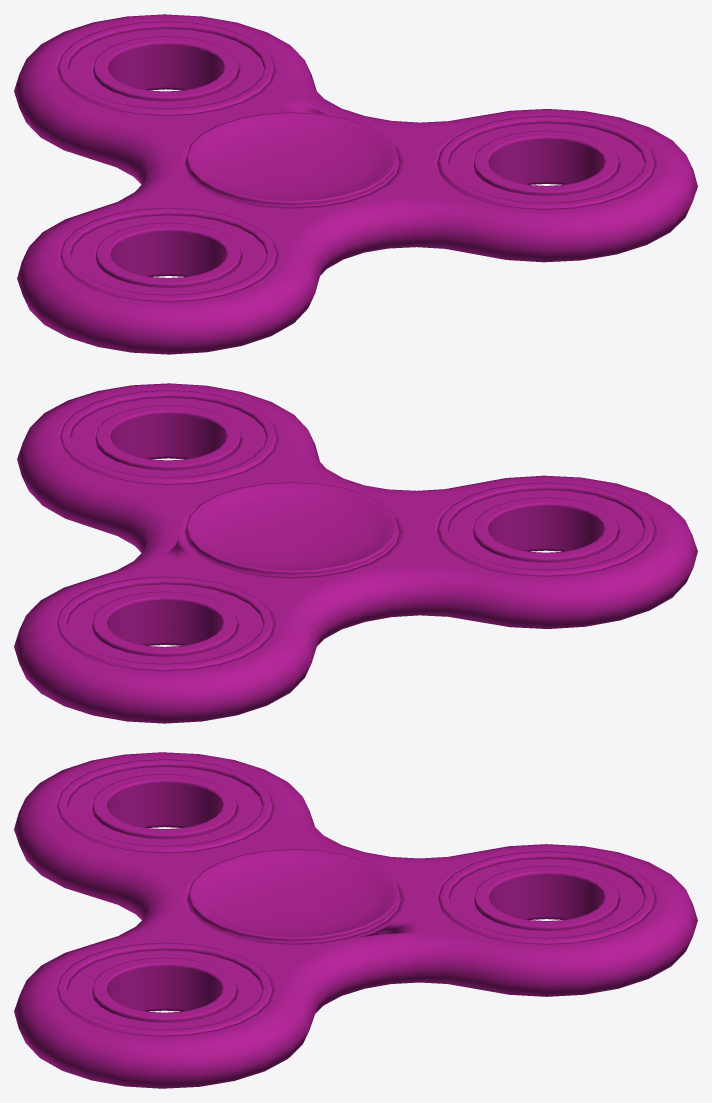
File: spinner.obj
3 views of the same model, one above another, from view 1: azimuth 30°, elevation 25°; view 2: azimuth 150°, elevation 25°; view 3: azimuth 270°, elevation 25° (orthographic).
Parts seen in each view (by area): view 1: headusOBJexport; view 2: headusOBJexport; view 3: headusOBJexport.
Boxes of the visible parts, box(x1,y1,x2,y2) form: headusOBJexport: box(14, 14, 697, 354); headusOBJexport: box(14, 383, 697, 723); headusOBJexport: box(14, 752, 697, 1088).
Size of the model in its own units: 70.61 by 6.23 by 65.61.
